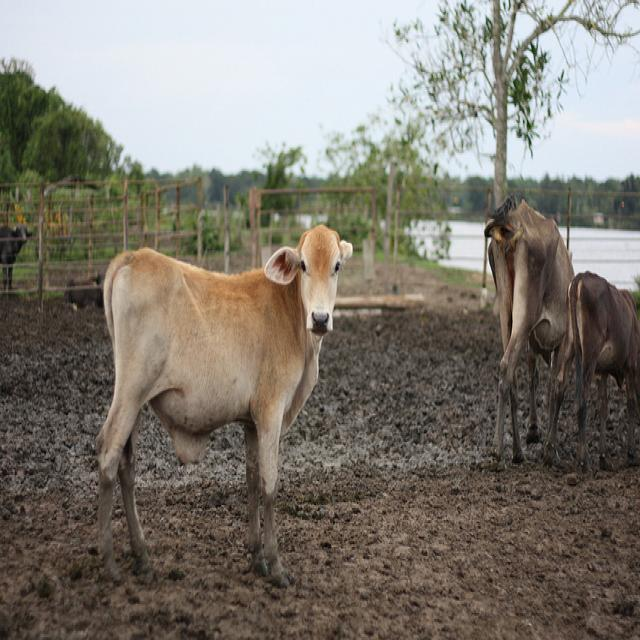cow: (94, 222, 354, 584), (481, 190, 574, 468), (541, 268, 639, 471), (0, 222, 30, 294)
